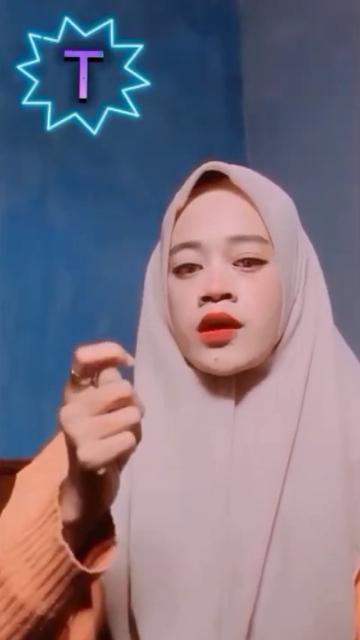T: (57, 340, 151, 478)
